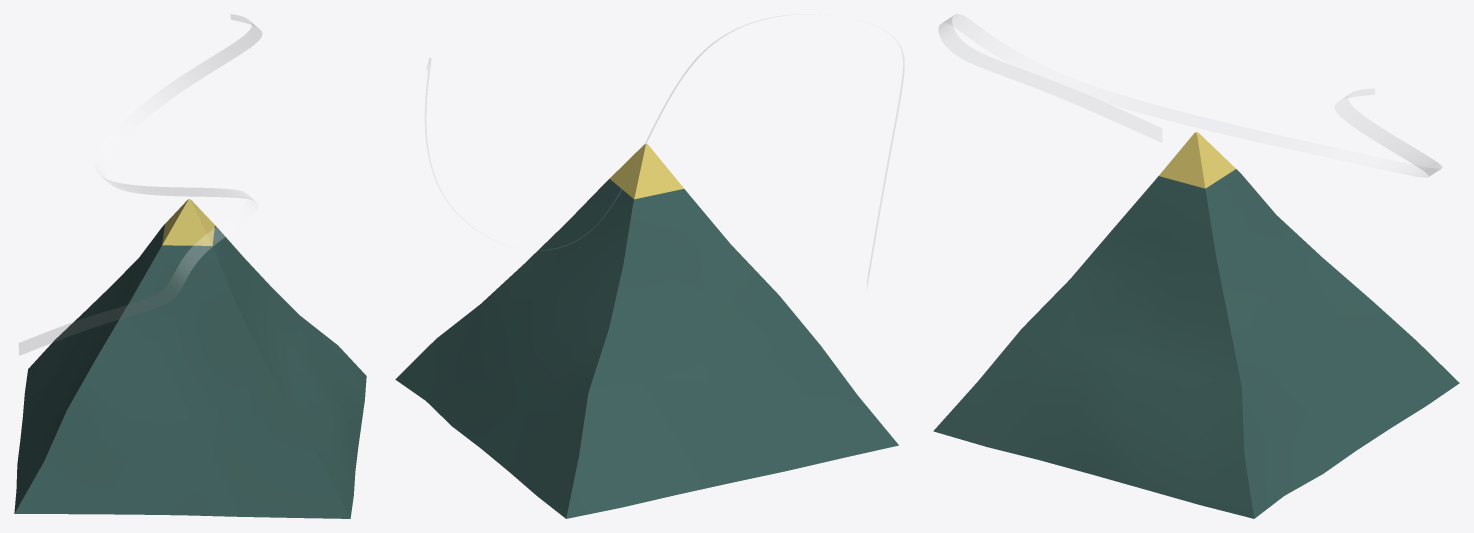
The picture shows the model from 3 angles, left to right: view 1: azimuth 30°, elevation 25°; view 2: azimuth 150°, elevation 25°; view 3: azimuth 270°, elevation 25°; orthographic projection. The views are drawn at different scales.
Parts seen in each view (by area): view 1: Pyramid.004, Plane, Pyramid.006; view 2: Pyramid.004, Pyramid.006, Plane; view 3: Pyramid.004, Plane, Pyramid.006.
Boxes of the visible parts, x1=… form: Pyramid.004: x1=14, y1=224, x2=366, y2=518; Plane: x1=19, y1=14, x2=261, y2=355; Pyramid.006: x1=162, y1=199, x2=214, y2=245; Pyramid.004: x1=395, y1=179, x2=898, y2=518; Pyramid.006: x1=609, y1=143, x2=683, y2=199; Plane: x1=425, y1=15, x2=904, y2=286; Pyramid.004: x1=933, y1=169, x2=1459, y2=518; Plane: x1=939, y1=14, x2=1442, y2=177; Pyramid.006: x1=1159, y1=132, x2=1235, y2=188.
Size of the model in its own units: 4.02 by 3.26 by 4.02.
